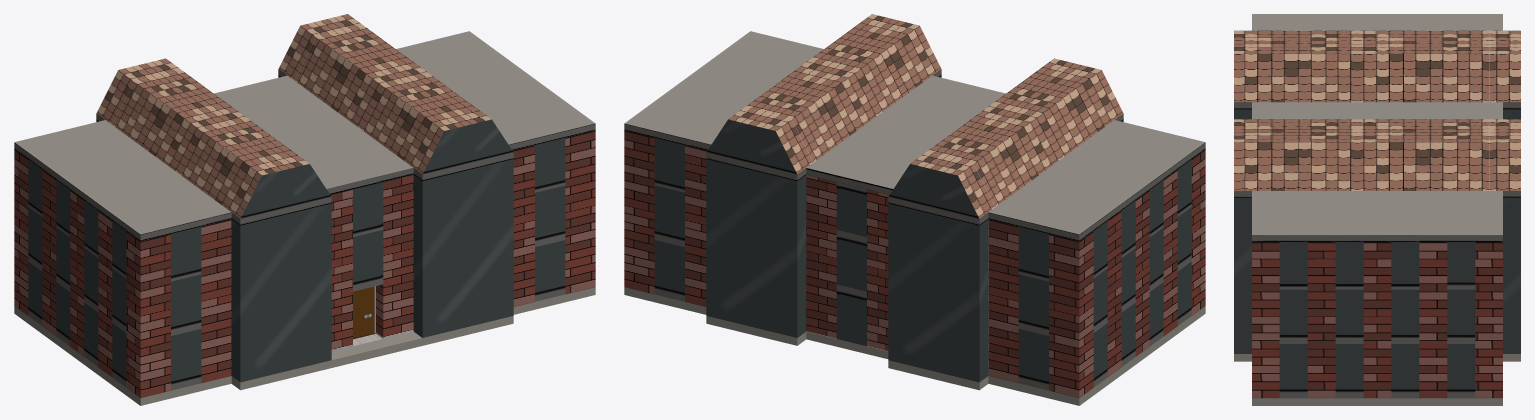
The model's file is ApartmentFacny.fbx.
3 views of the same model, side by side, from view 1: azimuth 30°, elevation 25°; view 2: azimuth 150°, elevation 25°; view 3: azimuth 270°, elevation 25° (orthographic).
Parts seen in each view (by area): view 1: pCube1; view 2: pCube1; view 3: pCube1.
Boxes of the visible parts, left/top/right/bottom form: pCube1: left=14, top=14, right=595, bottom=405; pCube1: left=624, top=14, right=1205, bottom=405; pCube1: left=1234, top=14, right=1520, bottom=405.
Bounding box in the file's own units: 2.5 × 1.1 × 1.37.
1 material, 1 textured.
